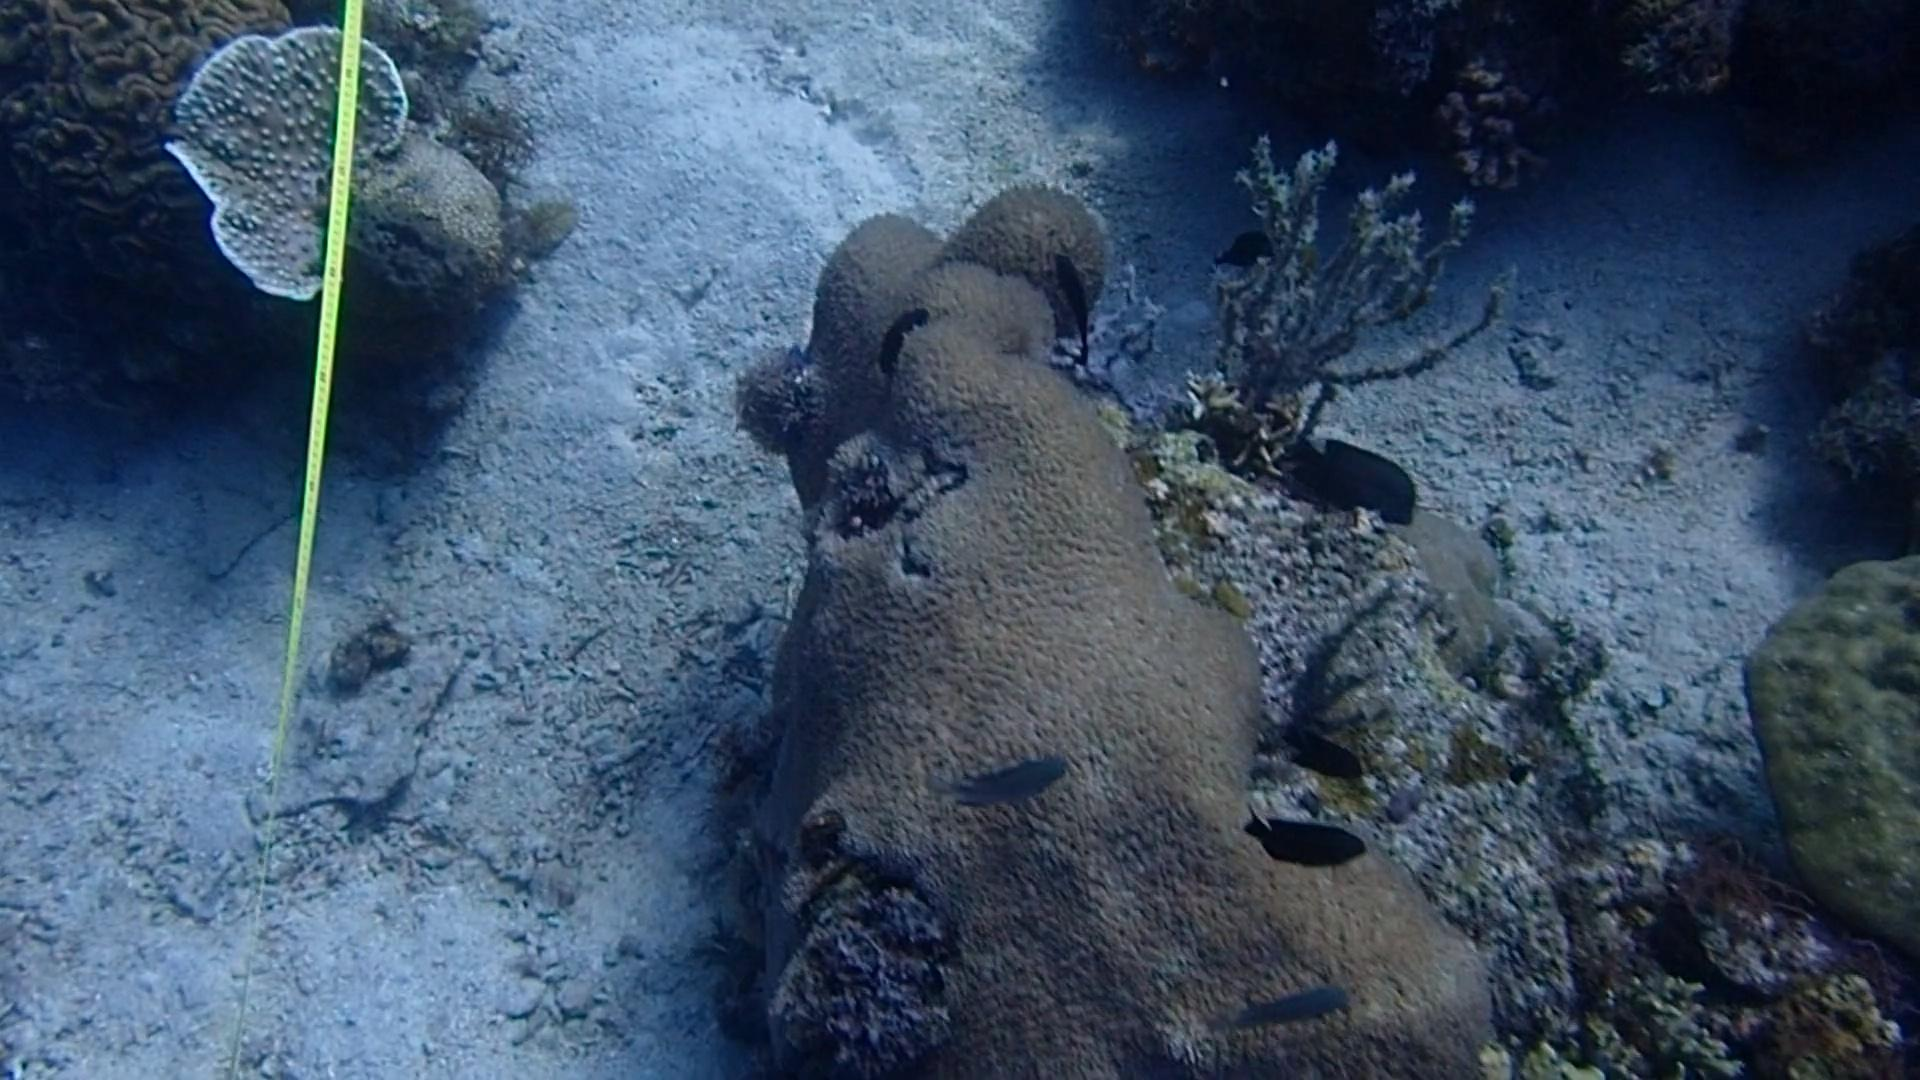Big Dark Blue Fish: (1288, 433, 1429, 526)
Dark Fish: (1269, 712, 1381, 798), (1034, 245, 1121, 330), (1253, 816, 1374, 876), (860, 287, 936, 371), (1216, 220, 1282, 272)
Light Fish: (1211, 978, 1358, 1047), (939, 748, 1080, 819)
